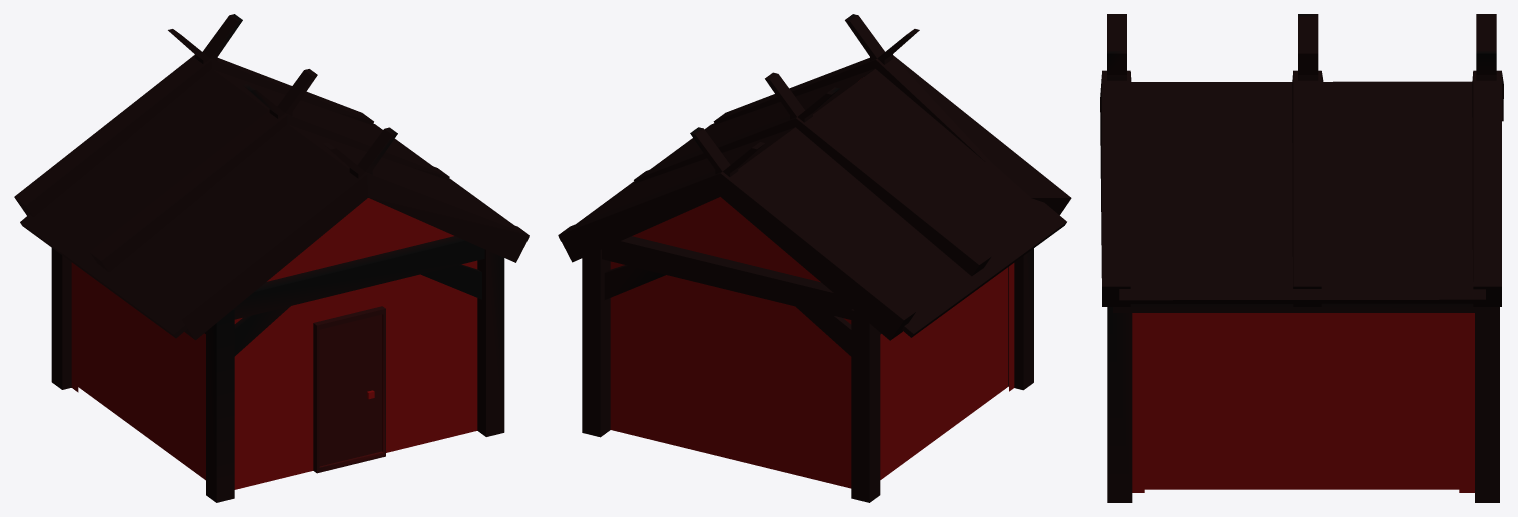
The model's file is PeasantHouse.fbx.
The picture shows the model from 3 angles, left to right: view 1: azimuth 30°, elevation 25°; view 2: azimuth 150°, elevation 25°; view 3: azimuth 270°, elevation 25°; orthographic projection. The views are drawn at different scales.
Visible parts, largest first — view 1: polySurface86; view 2: polySurface86; view 3: polySurface86.
Part boxes in pixels (x1=…): polySurface86: x1=14, y1=14, x2=529, y2=502; polySurface86: x1=558, y1=14, x2=1071, y2=502; polySurface86: x1=1100, y1=14, x2=1503, y2=502.
Size of the model in its own units: 546 by 476 by 449.
